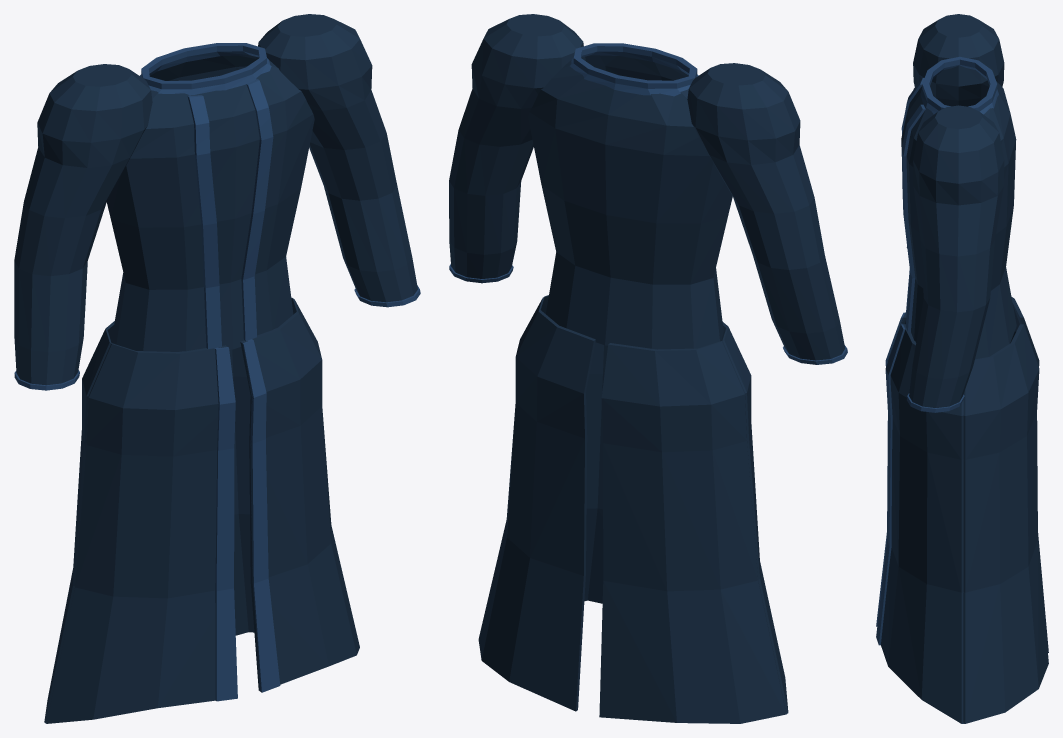
File: cloth_chest-male.glb
3 renders of one model, left to right at view 1: azimuth 30°, elevation 25°; view 2: azimuth 150°, elevation 25°; view 3: azimuth 270°, elevation 25°, orthographic. The views are drawn at different scales.
Parts seen in each view (by area): view 1: Flowing robe skirt -1, cloth tunic torso, Flowing robe skirt 1, cloth long sleeve -1, cloth long sleeve 1, Robe skirt bound opening -1, Robe skirt bound opening 1, Robe front facing -1, Robe front facing 1, Fitted tunic neckline; view 2: Flowing robe skirt -1, cloth tunic torso, Flowing robe skirt 1, cloth long sleeve -1, cloth long sleeve 1, Fitted tunic neckline; view 3: Flowing robe skirt 1, cloth long sleeve 1, cloth tunic torso, cloth long sleeve -1, Robe skirt bound opening 1, Fitted tunic neckline, Robe front facing 1, Flowing robe skirt -1, Robe skirt bound opening -1, Sleeve cuff binding 1.
Boxes of the visible parts, x1,y1,x2,y2 form: Flowing robe skirt -1: (44, 321, 227, 723); cloth tunic torso: (106, 55, 314, 351); Flowing robe skirt 1: (229, 297, 359, 690); cloth long sleeve -1: (14, 64, 152, 385); cloth long sleeve 1: (256, 14, 417, 302); Robe skirt bound opening -1: (214, 347, 237, 701); Robe skirt bound opening 1: (242, 339, 280, 692); Robe front facing -1: (187, 95, 221, 348); Robe front facing 1: (241, 79, 273, 340); Fitted tunic neckline: (140, 43, 271, 95); Flowing robe skirt -1: (599, 322, 788, 723); cloth tunic torso: (528, 55, 732, 349); Flowing robe skirt 1: (478, 295, 607, 711); cloth long sleeve -1: (687, 63, 845, 360); cloth long sleeve 1: (449, 14, 585, 278); Fitted tunic neckline: (570, 43, 698, 96); Flowing robe skirt 1: (881, 324, 1048, 723); cloth long sleeve 1: (909, 105, 1004, 407); cloth tunic torso: (901, 81, 1016, 359); cloth long sleeve -1: (913, 14, 1004, 106); Robe skirt bound opening 1: (876, 324, 905, 645); Fitted tunic neckline: (920, 56, 998, 114); Robe front facing 1: (901, 104, 925, 331); Flowing robe skirt -1: (887, 297, 1048, 652); Robe skirt bound opening -1: (876, 312, 904, 626); Sleeve cuff binding 1: (907, 393, 964, 412).
Size of the model in its own units: 3.73 by 5.74 by 1.53.
